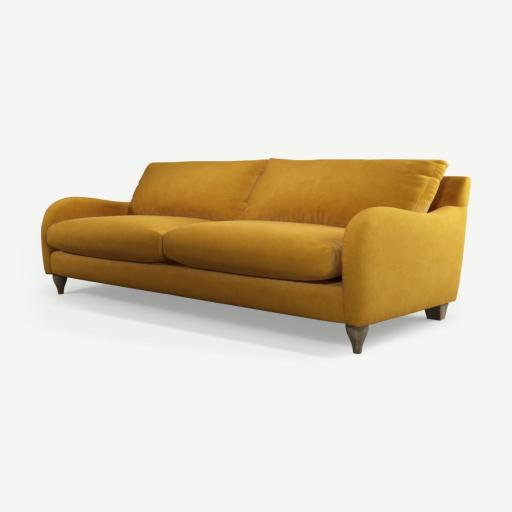back_cushion: (130, 158, 446, 227), (50, 215, 344, 280)
two-seater: (0, 0, 511, 512)
